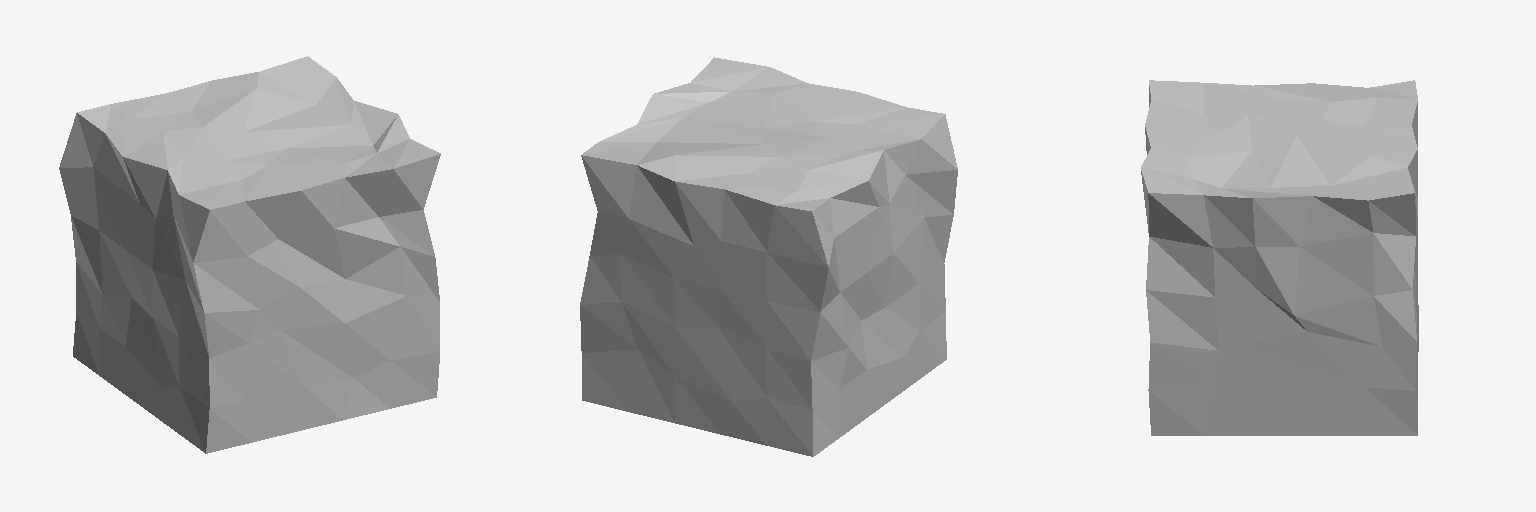
The model's file is Block2.obj.
The picture shows the model from 3 angles: view 1: azimuth 30°, elevation 25°; view 2: azimuth 150°, elevation 25°; view 3: azimuth 270°, elevation 25°; orthographic projection.
Visible parts, largest first — view 1: Cube.000_Cube; view 2: Cube.000_Cube; view 3: Cube.000_Cube.
Part boxes in pixels (x1,y1,x2,y2): Cube.000_Cube: (59, 56, 440, 453); Cube.000_Cube: (580, 57, 957, 456); Cube.000_Cube: (1141, 80, 1418, 435).
Bounding box in the file's own units: 2.23 × 2.03 × 2.09.